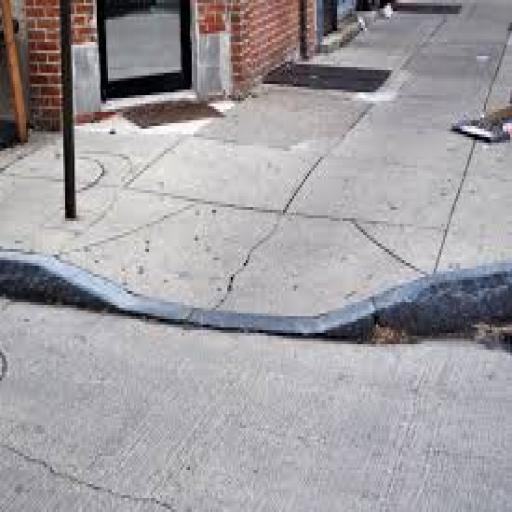kerb_cut: (106, 203, 394, 340)
